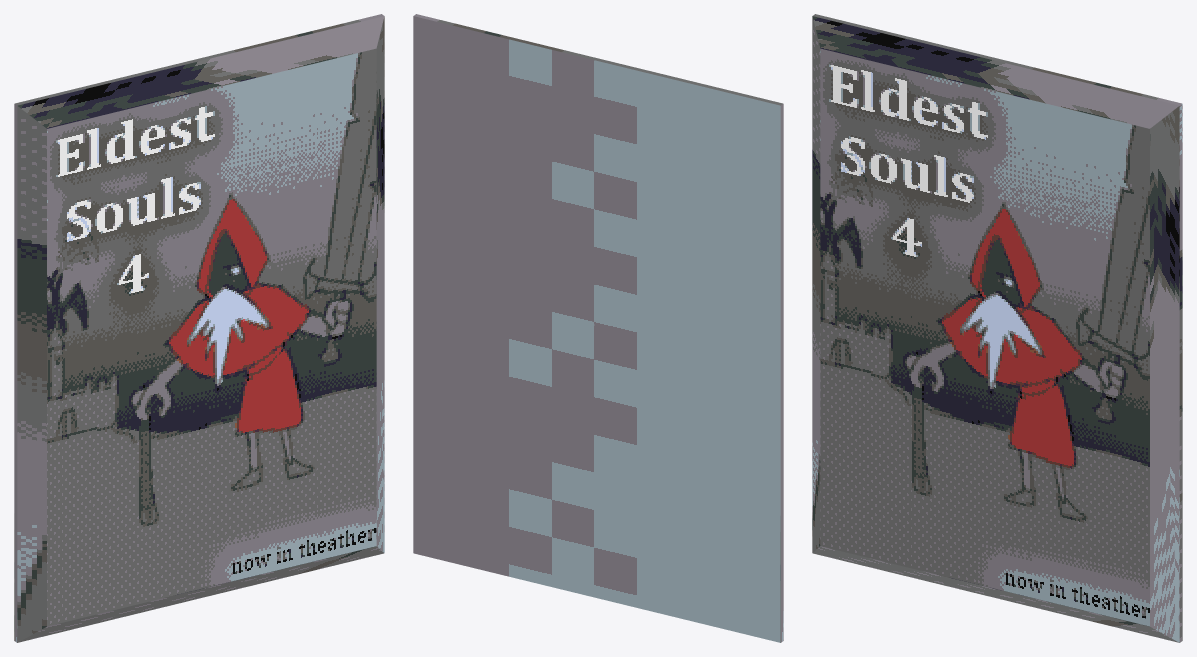
Rendered from Poster_Eldest.glb.
The picture shows the model from 3 angles, left to right: view 1: azimuth 30°, elevation 25°; view 2: azimuth 150°, elevation 25°; view 3: azimuth 330°, elevation 25°; orthographic projection.
Visible parts, largest first — view 1: Cube.001; view 2: Cube.001; view 3: Cube.001.
Part boxes in pixels (x1,y1,x2,y2): Cube.001: [14, 14, 384, 642]; Cube.001: [413, 14, 783, 642]; Cube.001: [812, 14, 1182, 642].
Bounding box in the file's own units: 1.24 × 1.74 × 0.0807.
1 material, 1 textured.
